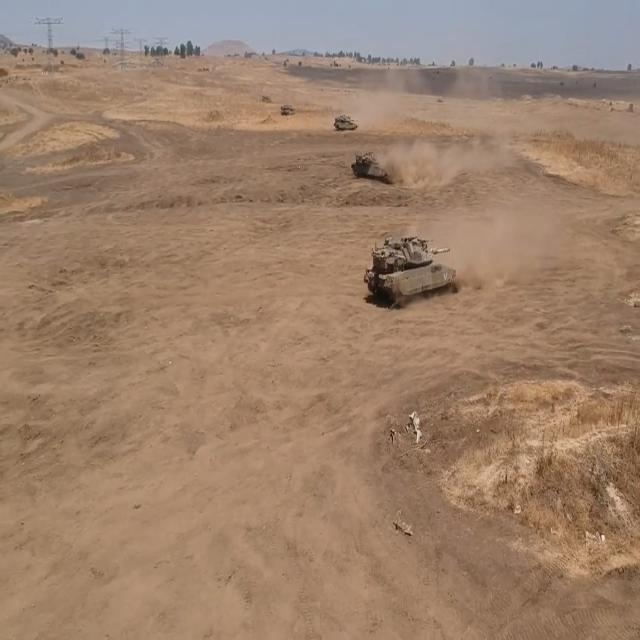tank: (360, 232, 461, 306), (351, 149, 392, 184), (337, 105, 363, 133), (278, 98, 297, 118)
